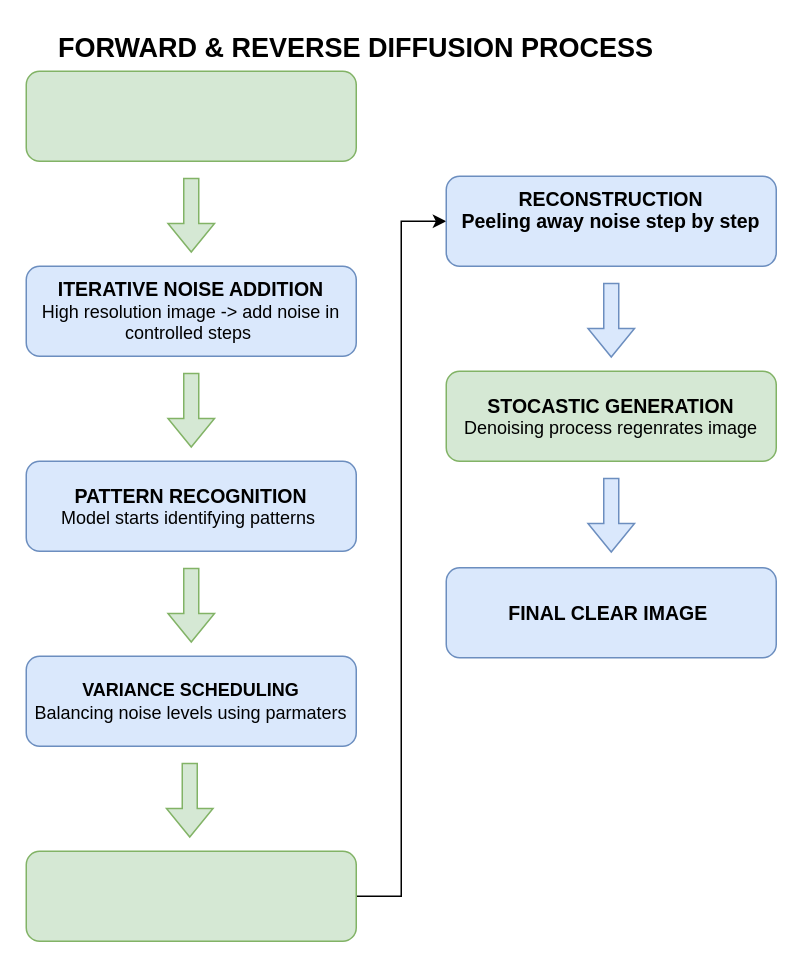
Image size: 803x968. Some labels were removed from this diagram. The centre of each missing label's shape, as x and y in pixels:
"INPUT IMAGE" belongs at pixel 190 115.
"NOISED - UP IMAGE Full proccessed with maximum noise" belongs at pixel 190 895.
